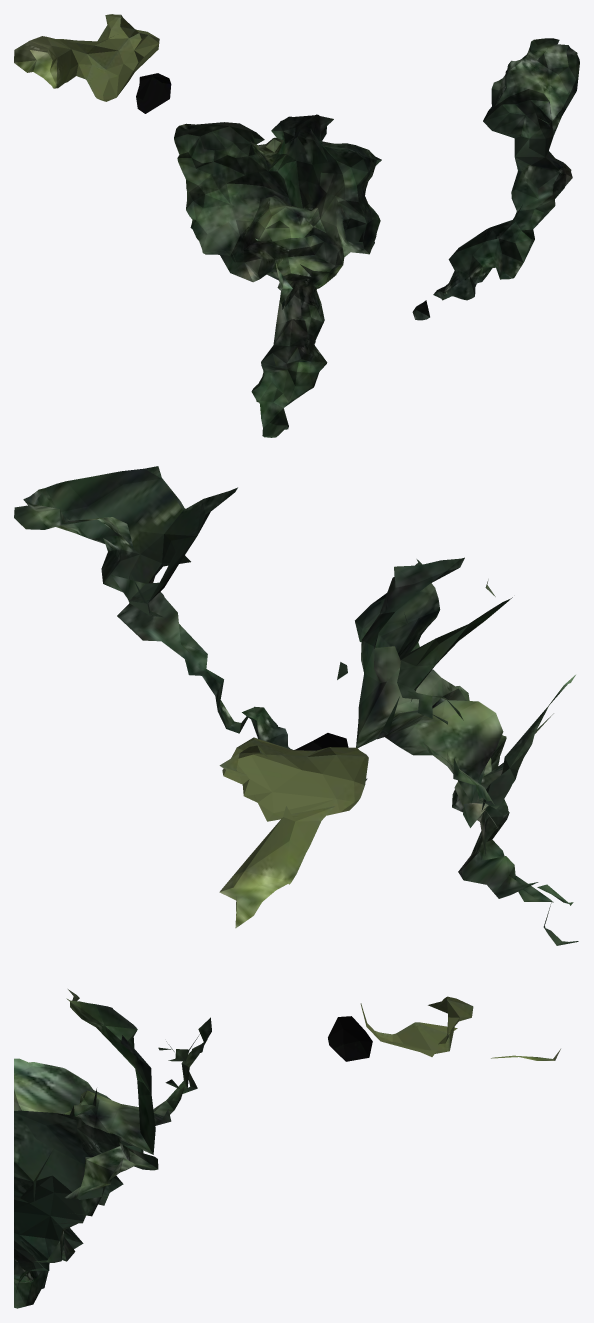
3 views of the same model, one above another, from view 1: azimuth 30°, elevation 25°; view 2: azimuth 150°, elevation 25°; view 3: azimuth 270°, elevation 25° (orthographic). The views are drawn at different scales.
Bounding box in the file's own units: 21.4 × 15.81 × 26.11.
Materials: 2 (2 with a texture image).
